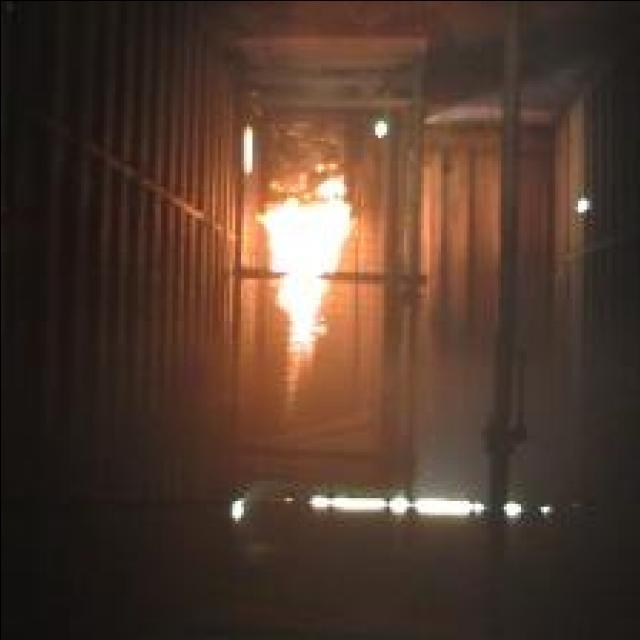Fire: (254, 176, 354, 413)
